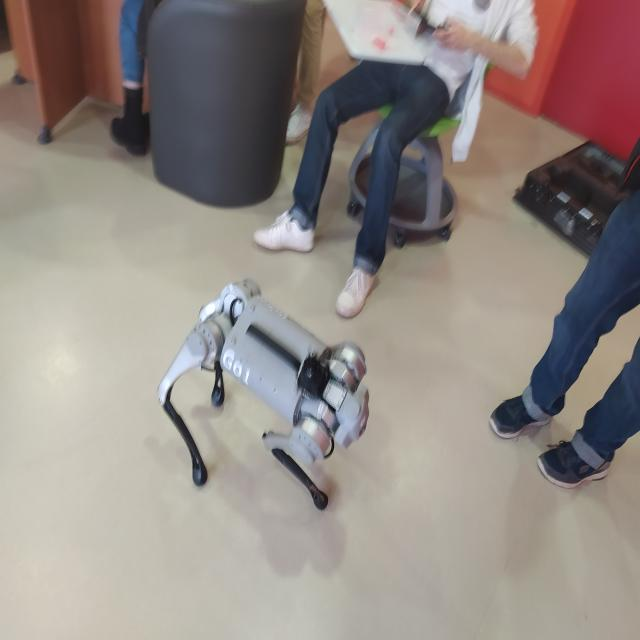unitree-go1-robot: (156, 268, 374, 537)
